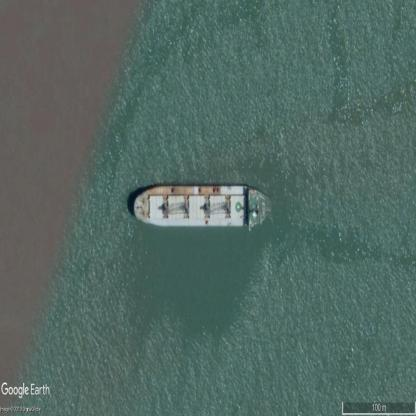ship: (132, 183, 272, 230)
